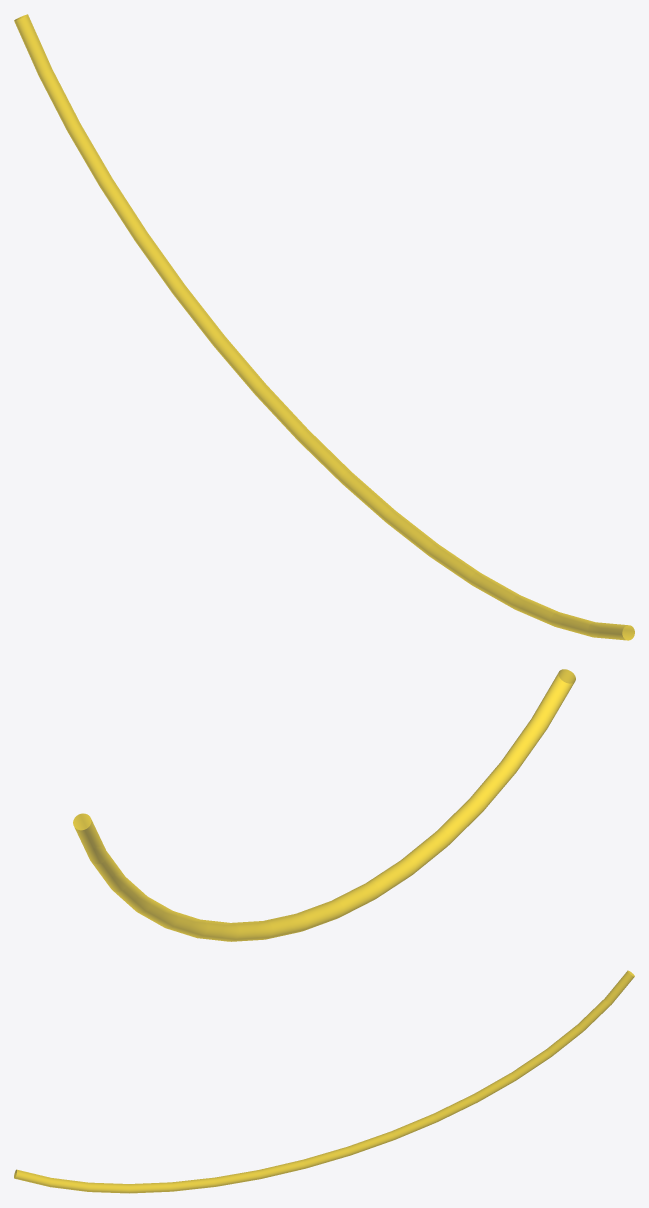
File: Event_31209032_track_8.fbx
3 renders of one model, top to bottom at view 1: azimuth 30°, elevation 25°; view 2: azimuth 150°, elevation 25°; view 3: azimuth 270°, elevation 25°, orthographic. The views are drawn at different scales.
Parts seen in each view (by area): view 1: Model; view 2: Model; view 3: Model.
Part boxes in pixels (x1,y1,x2,y2): Model: (14,14,634,640); Model: (73,669,575,941); Model: (14,970,634,1193).
Size of the model in its own units: 0.3589 by 0.9142 by 2.62.
